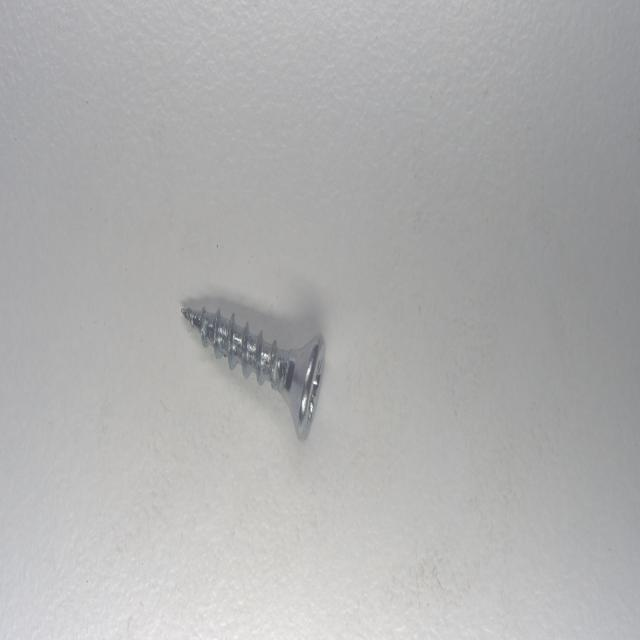Screw: (182, 307, 325, 440)
